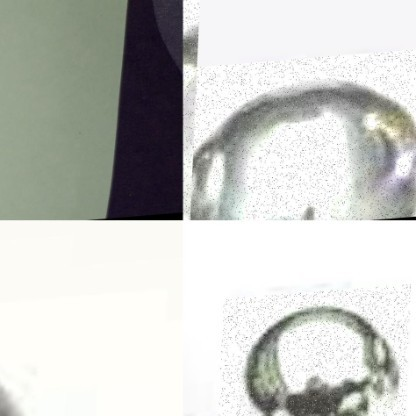ironball: (182, 52, 415, 220), (217, 287, 411, 415)
